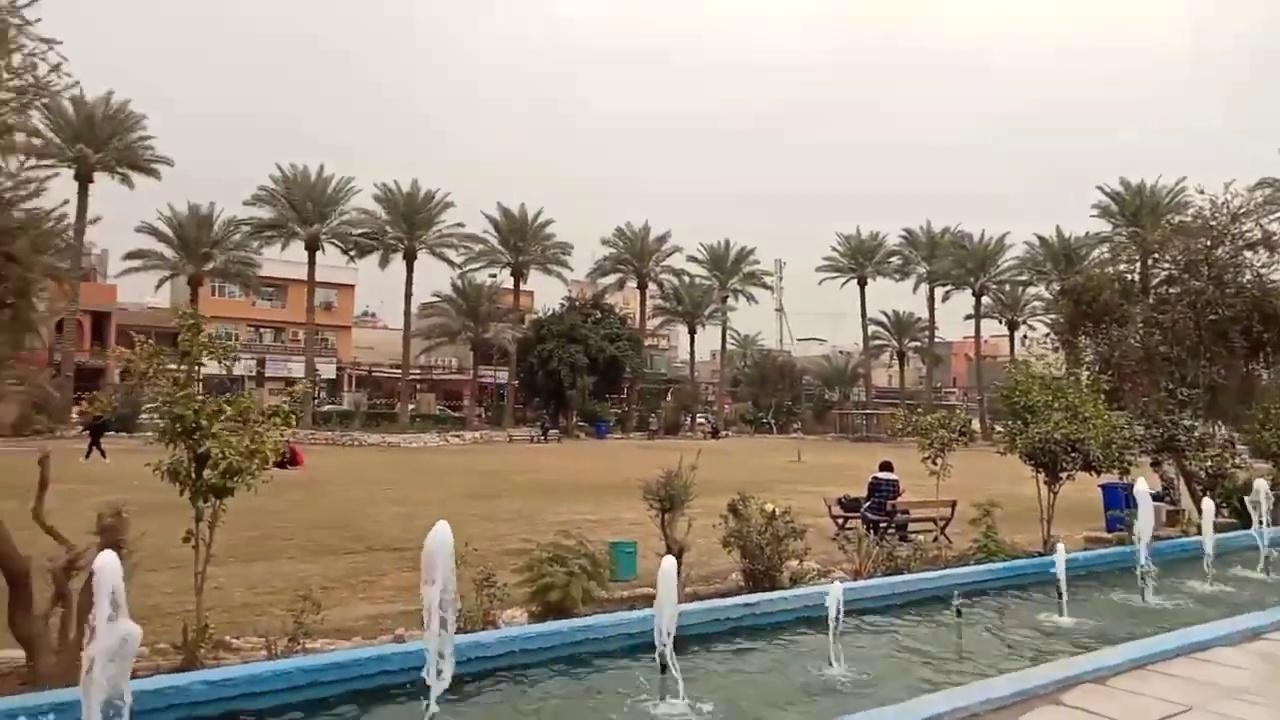fountain: (2, 475, 1278, 718), (629, 552, 714, 717), (77, 546, 143, 718), (416, 517, 461, 717), (806, 578, 870, 683), (650, 552, 680, 676)
person: (859, 459, 914, 543), (78, 412, 110, 463), (1149, 458, 1178, 505)
tree: (92, 305, 308, 667), (14, 84, 174, 428), (1141, 176, 1277, 525), (1084, 172, 1200, 519), (0, 0, 81, 433), (239, 160, 369, 427), (344, 176, 469, 424), (112, 198, 262, 394), (989, 354, 1134, 554), (459, 200, 574, 425), (585, 218, 683, 431), (926, 227, 1020, 438), (409, 271, 522, 429), (814, 224, 909, 410), (515, 294, 637, 437), (684, 237, 772, 432), (1015, 223, 1104, 383), (889, 218, 963, 410), (646, 269, 727, 433), (0, 0, 79, 159), (890, 405, 973, 542), (713, 490, 810, 591), (509, 526, 610, 621), (636, 448, 701, 580), (962, 279, 1054, 362), (864, 306, 939, 397), (736, 351, 804, 433), (462, 562, 510, 631), (815, 347, 870, 405), (724, 327, 765, 372)
